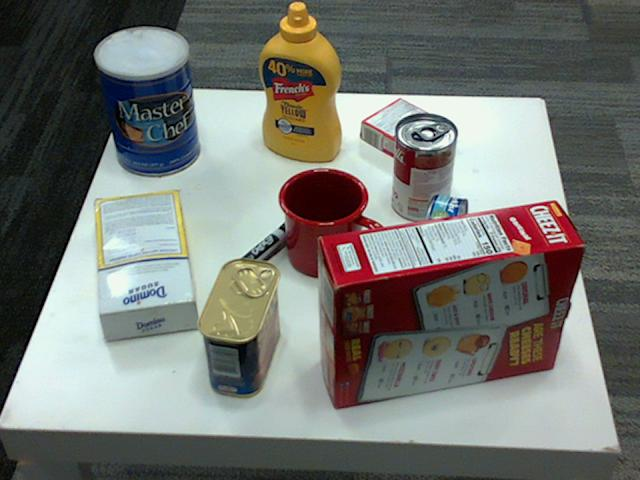cracker_box: (320, 198, 583, 405)
gelatin_box: (362, 98, 453, 165)
large_marker: (216, 218, 299, 294)
master_chef_can: (93, 27, 198, 176)
mug: (277, 165, 384, 274)
mustard_bottle: (258, 2, 341, 161)
potted_meat_can: (198, 257, 281, 397)
sugar_box: (94, 187, 197, 336)
tomato_soup_can: (390, 113, 456, 222)
tuna_fish_can: (417, 193, 467, 279)
